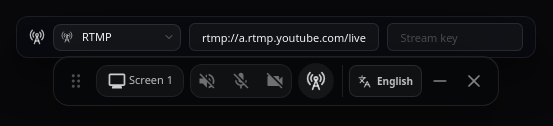
Test: LaunchWindow screen selection › switches the destination pill to YouTube and signs in
The image size is (553, 126).
Expected: the text "Screen 1" is shown, left=129, top=73, right=173, bottom=89
Select "YouTube Live" in the dropdown named "Destination provider". click: (117, 38)
box: left=53, top=24, right=181, bottom=51
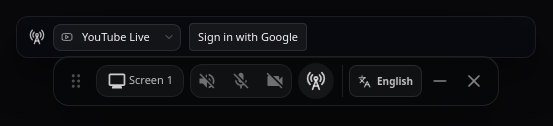
Now the button "Sign in with Google" is shown
Click the button "Sign in with Google". click: (248, 37)
box: left=189, top=23, right=307, bottom=51
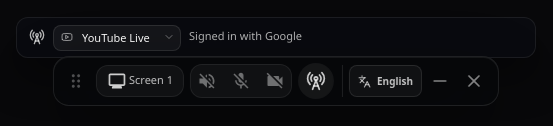
Now the text "Signed in with Google" is shown, box left=189, top=29, right=302, bottom=46
